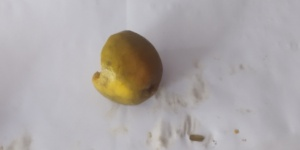BAD: (90, 28, 164, 107)
